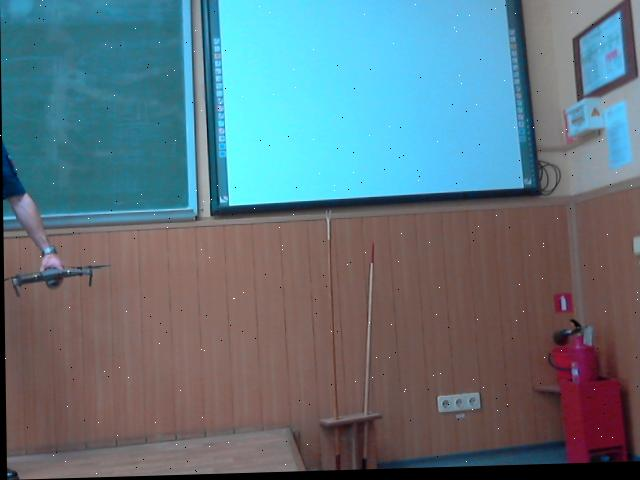drone: (3, 255, 117, 300)
